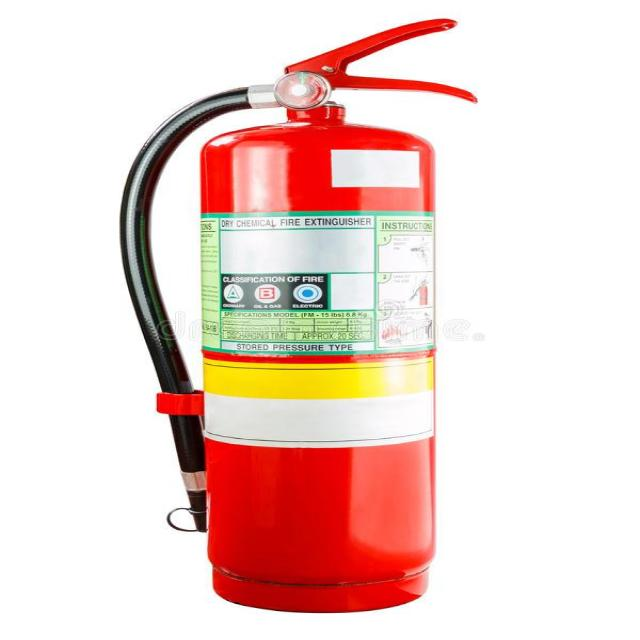fire_extinguisher: (116, 16, 479, 616)
